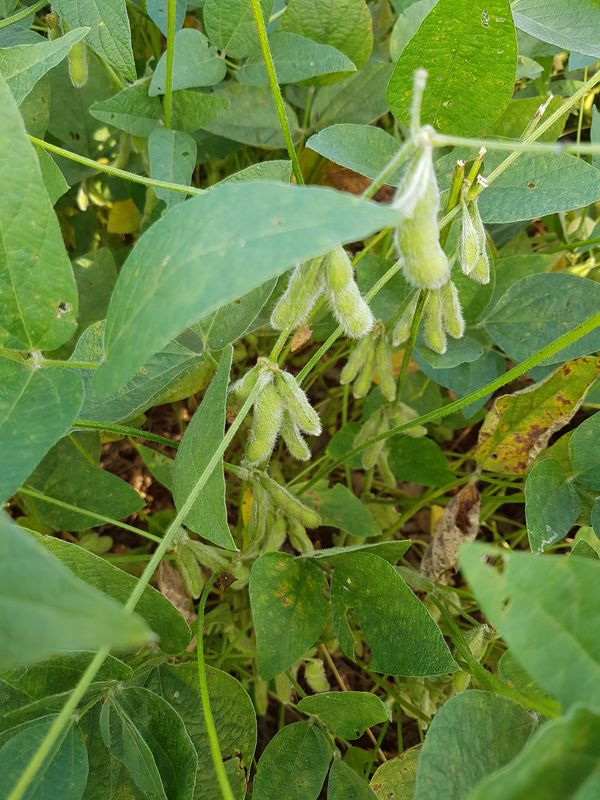Euschistus_heros_adulto: (280, 318, 320, 357), (212, 570, 241, 596)
